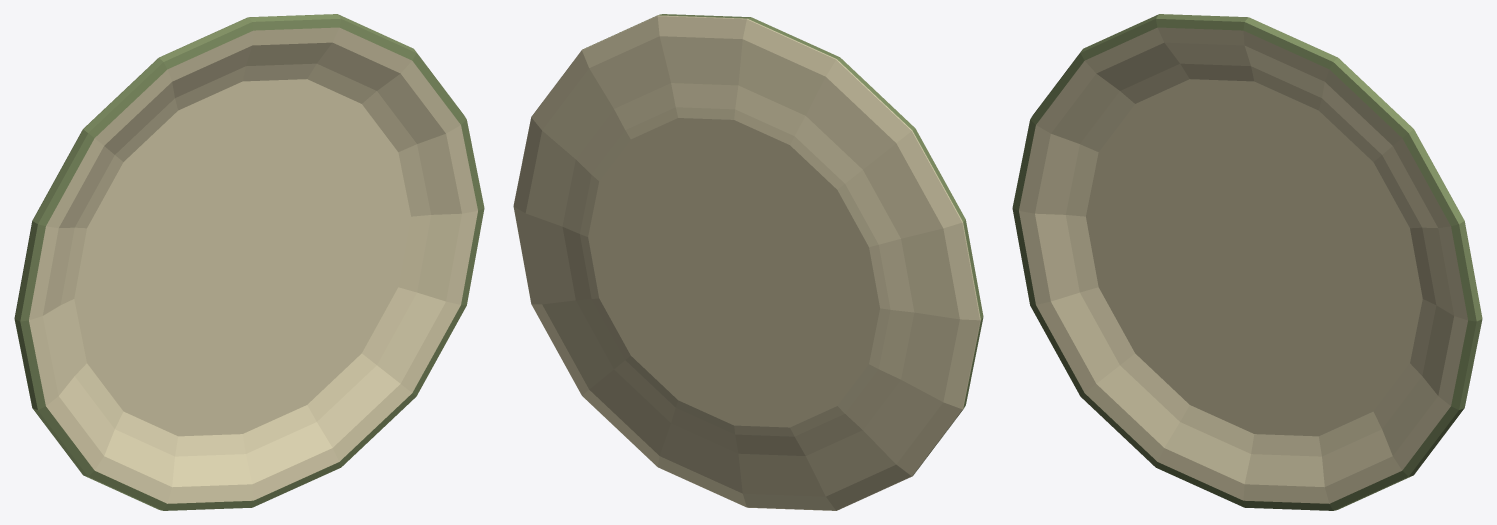
The model's file is plate.glb.
3 views of the same model, side by side, from view 1: azimuth 30°, elevation 25°; view 2: azimuth 150°, elevation 25°; view 3: azimuth 330°, elevation 25° (orthographic).
Parts seen in each view (by area): view 1: plate; view 2: plate; view 3: plate.
Boxes of the visible parts, x1,y1,x2,y2 form: plate: (14, 14, 484, 510); plate: (513, 14, 983, 510); plate: (1012, 14, 1482, 510).
Size of the model in its own units: 0.2498 by 0.2498 by 0.017.
